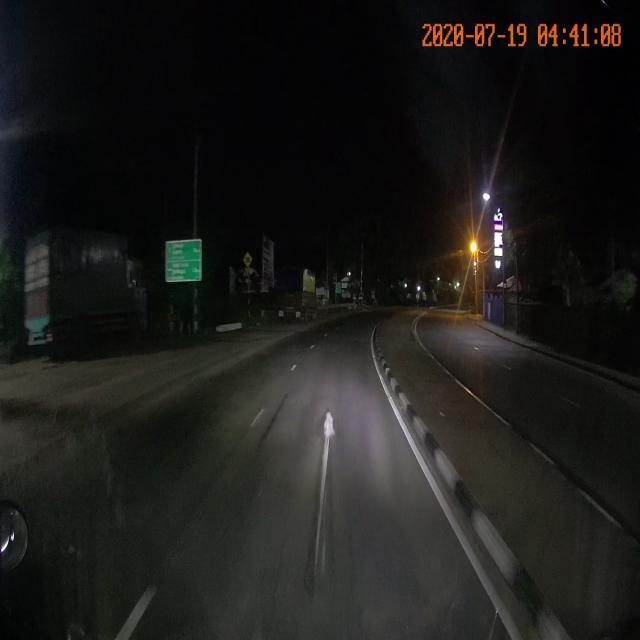forward: (138, 405, 500, 599)
